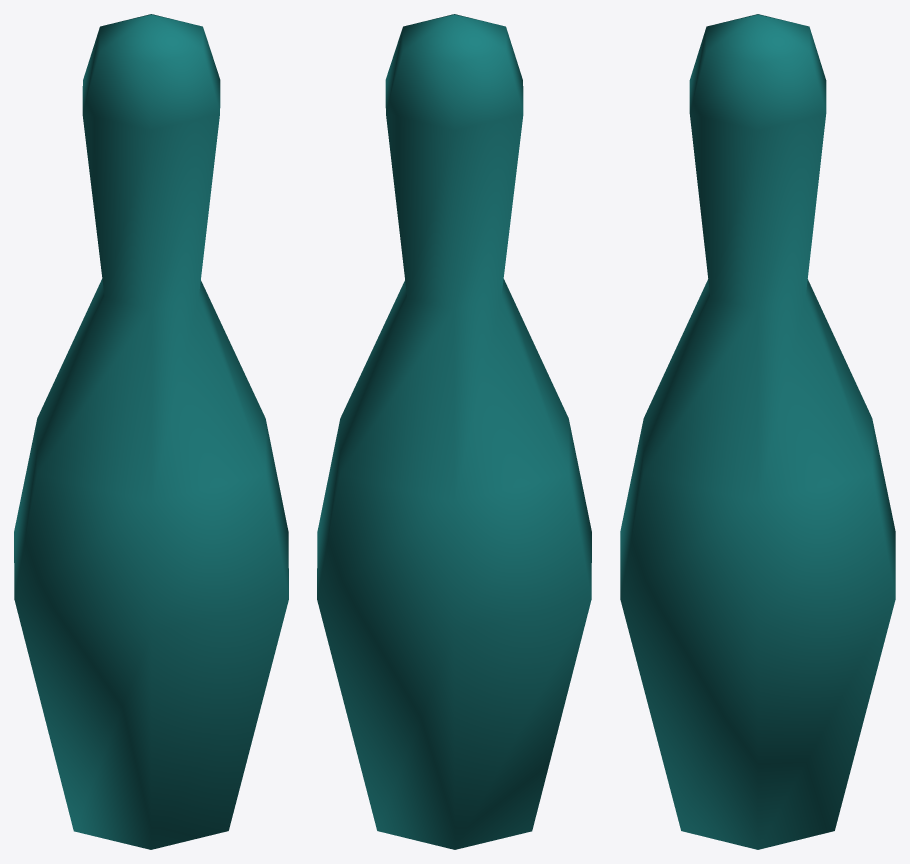
Rendered from bowling_pin_collider.fbx.
The picture shows the model from 3 angles, left to right: view 1: azimuth 30°, elevation 25°; view 2: azimuth 150°, elevation 25°; view 3: azimuth 270°, elevation 25°; orthographic projection.
Parts seen in each view (by area): view 1: bowling_pin_collider; view 2: bowling_pin_collider; view 3: bowling_pin_collider.
Boxes of the visible parts, box(x1,y1,x2,y2) form: bowling_pin_collider: box(14, 14, 288, 849); bowling_pin_collider: box(317, 14, 591, 849); bowling_pin_collider: box(620, 14, 895, 849).
Bounding box in the file's own units: 13.62 × 37.81 × 11.85.
